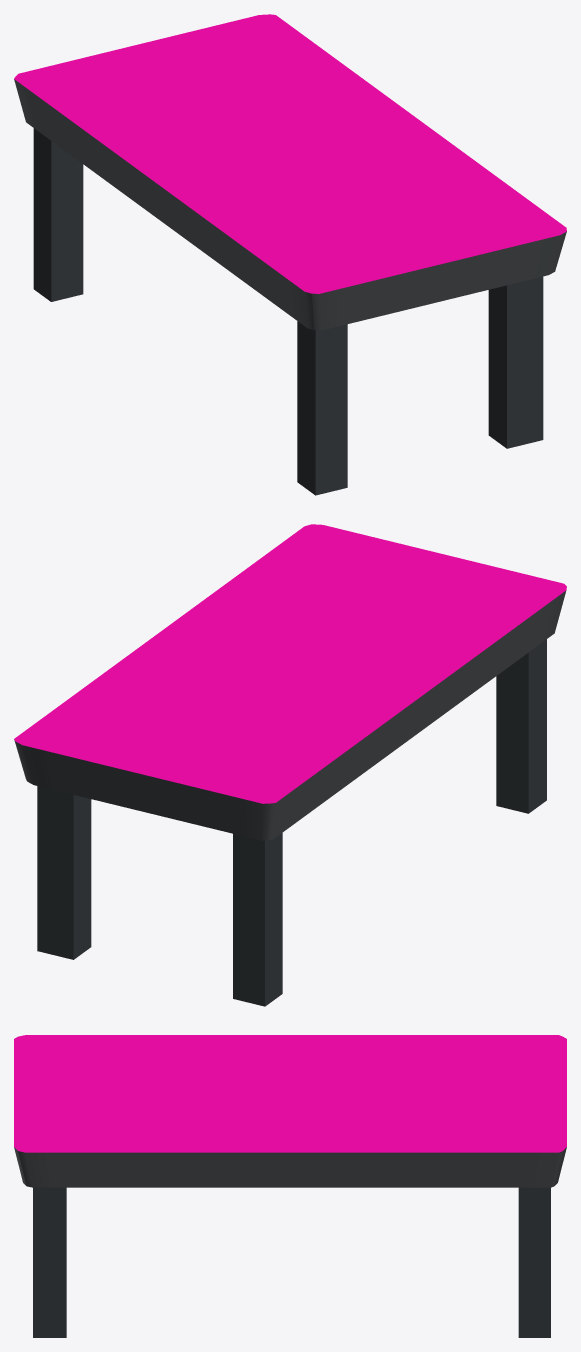
Rendered from big_table.fbx.
The picture shows the model from 3 angles, top to bottom: view 1: azimuth 30°, elevation 25°; view 2: azimuth 150°, elevation 25°; view 3: azimuth 270°, elevation 25°; orthographic projection. The views are drawn at different scales.
Visible parts, largest first — view 1: pCube10; view 2: pCube10; view 3: pCube10.
Part boxes in pixels (x1,y1,x2,y2): pCube10: (14,14,566,495); pCube10: (14,524,566,1006); pCube10: (14,1035,566,1337).
Size of the model in its own units: 2.94 by 2.26 by 5.84.
